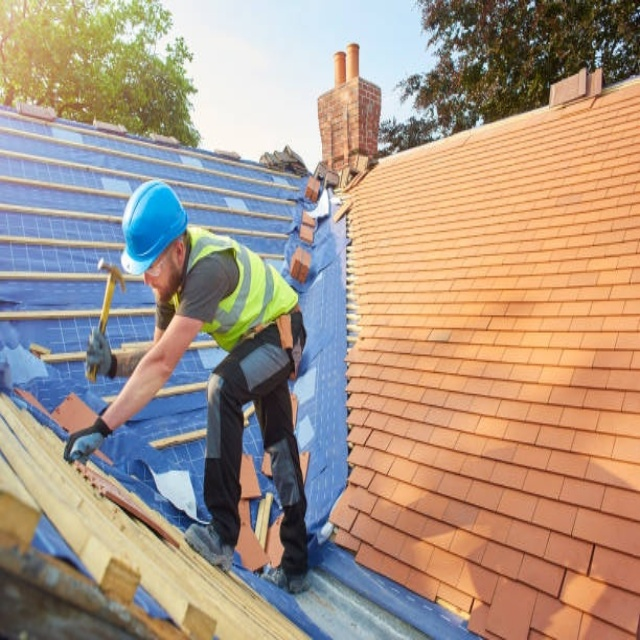Gafas: (141, 242, 174, 279)
Guantes: (64, 413, 113, 465), (85, 327, 114, 379)
